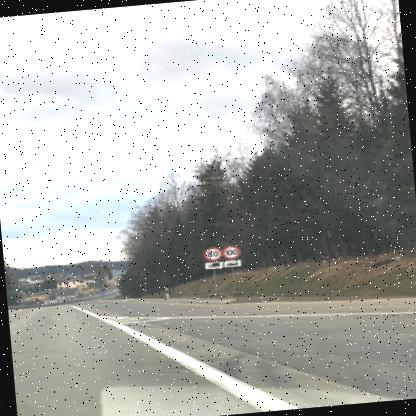speedlimit: (202, 246, 220, 260), (222, 245, 238, 258)
